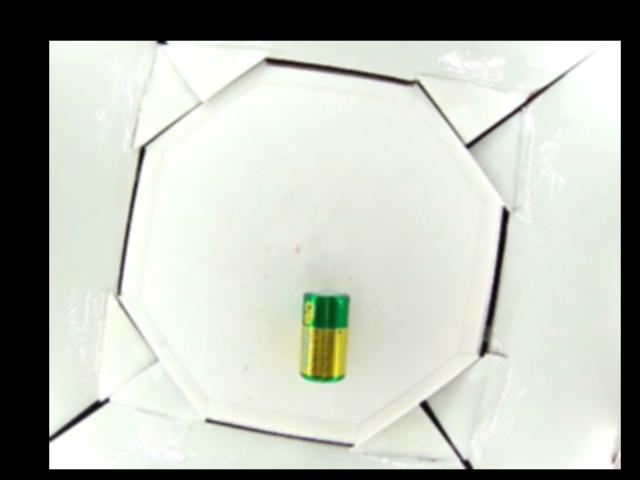Battery: (300, 289, 346, 384)
